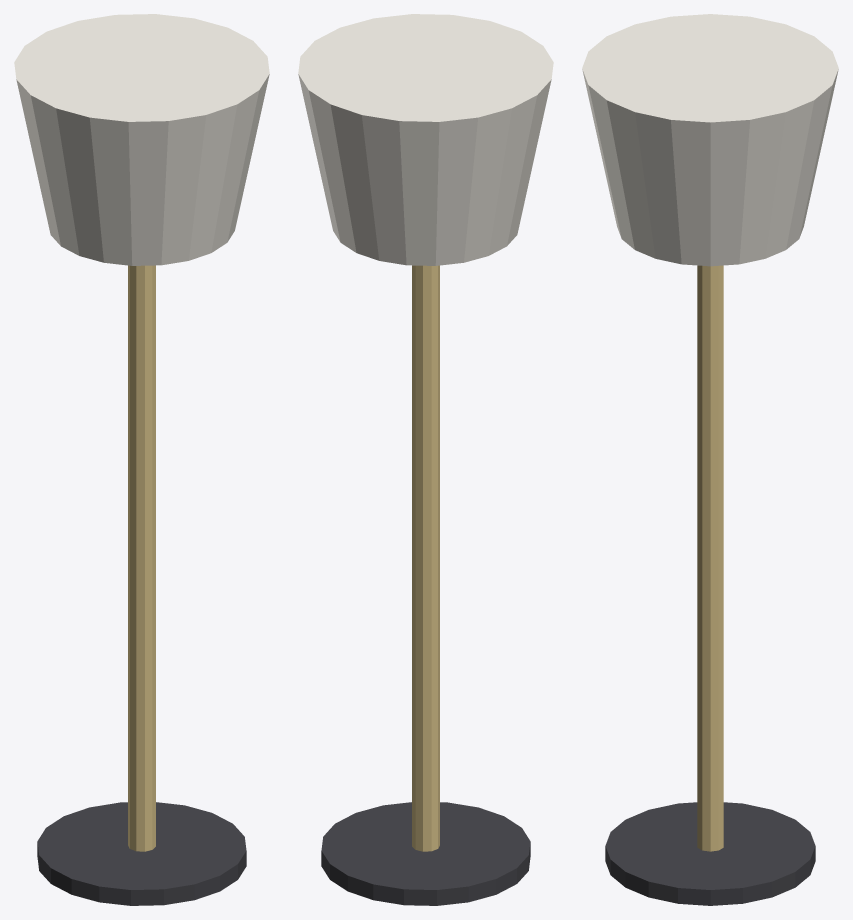
Rendered from lamp.glb.
The picture shows the model from 3 angles, left to right: view 1: azimuth 30°, elevation 25°; view 2: azimuth 150°, elevation 25°; view 3: azimuth 270°, elevation 25°; orthographic projection.
Parts seen in each view (by area): view 1: lamp; view 2: lamp; view 3: lamp.
Boxes of the visible parts, bbox=[...] form: lamp: bbox=[14, 14, 269, 905]; lamp: bbox=[298, 14, 553, 905]; lamp: bbox=[582, 14, 838, 905].
Bounding box in the file's own units: 0.44 × 1.5 × 0.44.
